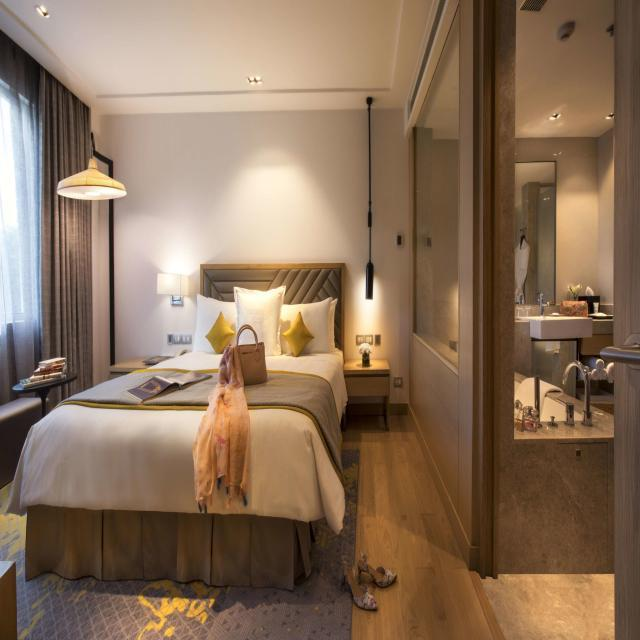bed: (7, 262, 347, 589)
